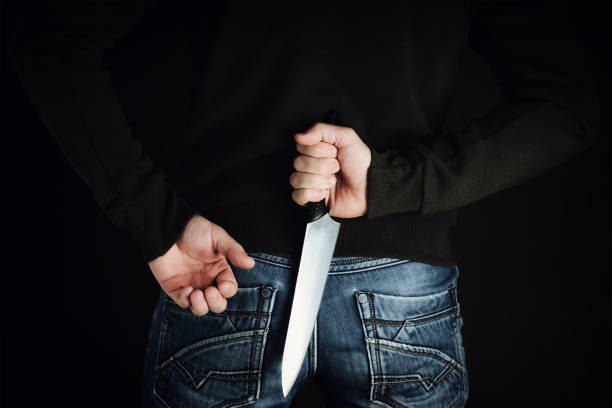knife: (280, 200, 342, 402)
